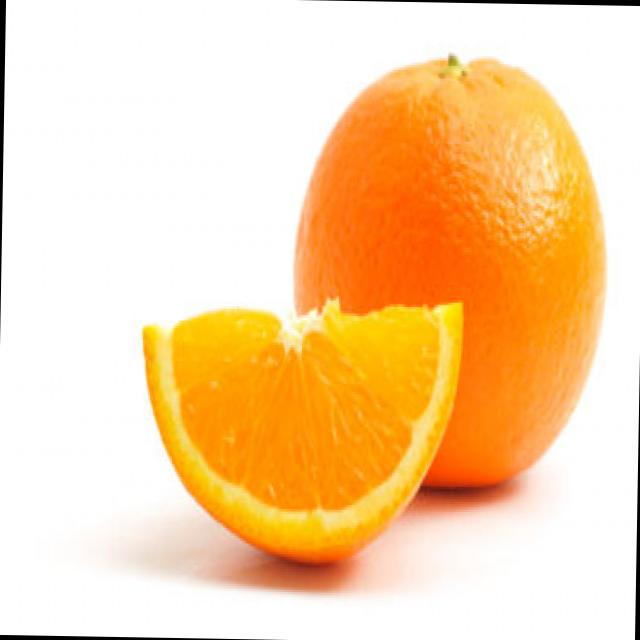orange: (281, 48, 601, 504)
